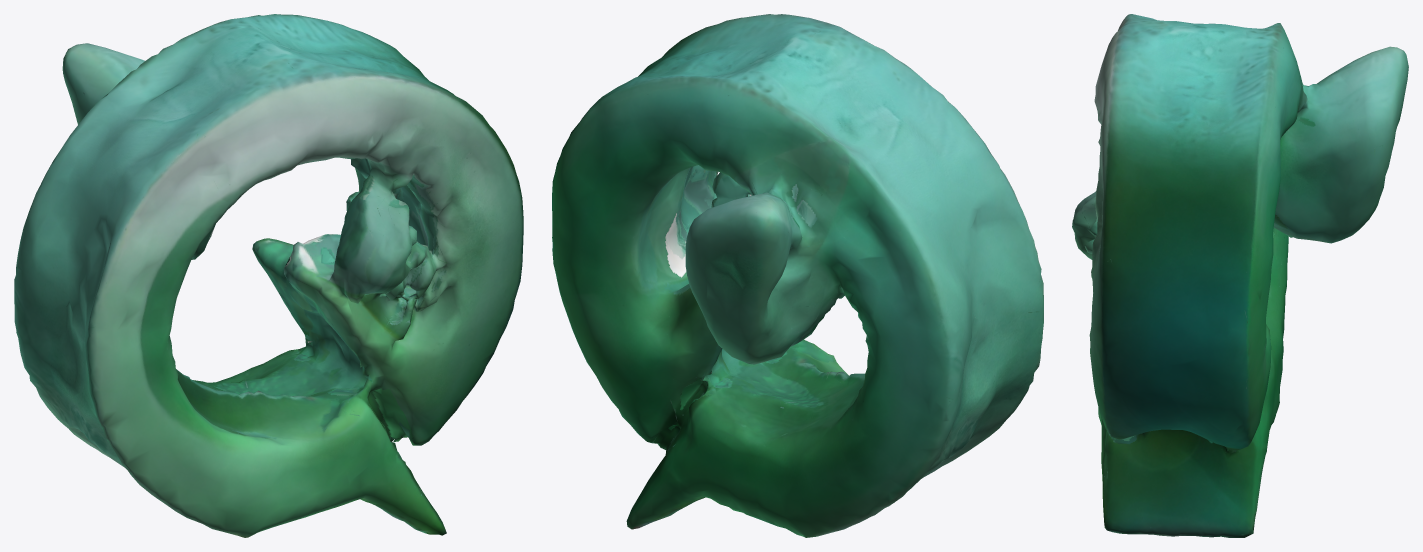
3 renders of one model, left to right at view 1: azimuth 30°, elevation 25°; view 2: azimuth 150°, elevation 25°; view 3: azimuth 270°, elevation 25°, orthographic. The views are drawn at different scales.
Parts seen in each view (by area): view 1: Mesh_0.001; view 2: Mesh_0.001; view 3: Mesh_0.001.
Part boxes in pixels (<box>): Mesh_0.001: <box>14,14,523,537</box>; Mesh_0.001: <box>552,14,1043,537</box>; Mesh_0.001: <box>1072,14,1408,537</box>.
Bounding box in the file's own units: 1.1 × 1.2 × 0.8126.
Materials: 1 (1 with a texture image).
